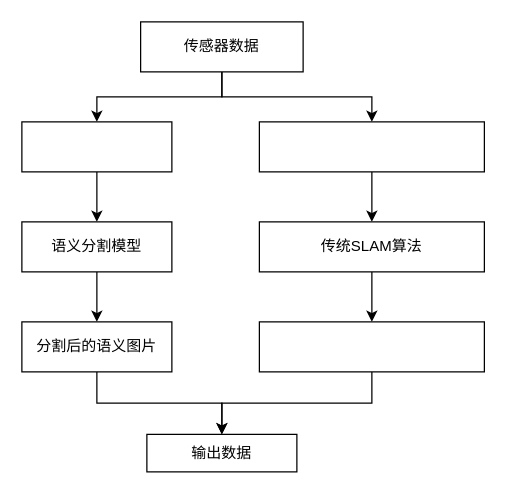
The diagram is 506 pixels wide and 494 high, and some of its shapes have lost their labels. Each missing label, with the box of its shape:
图片、IMU、GPS、Lidar点云等其中的一种或者多种: (258, 121, 484, 172)
图片数据: (21, 121, 172, 172)
自车位姿，地面稀疏/稠密点云: (258, 321, 484, 372)
